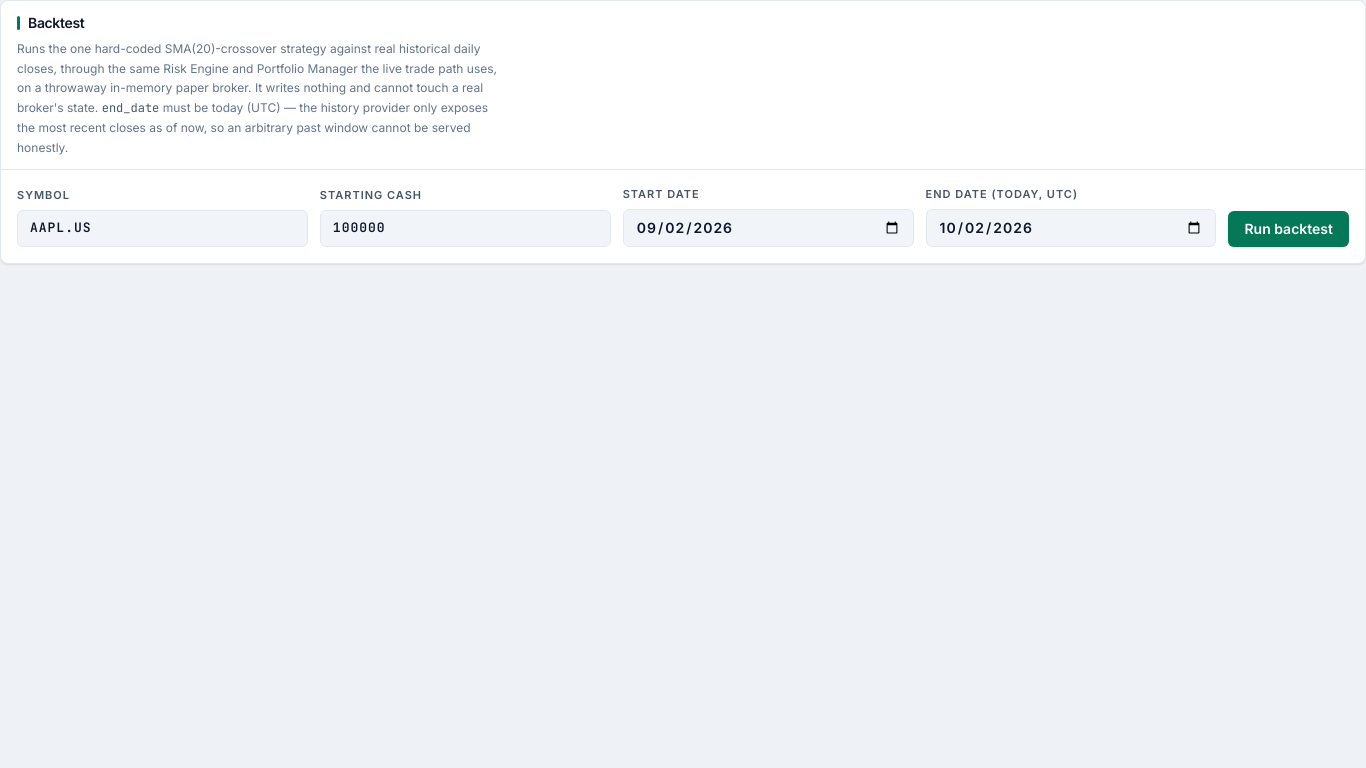
Scenario: BacktestPanel › says win rate is not applicable rather than showing 0% for zero round trips
The width and height of the screenshot is (1366, 768).
Click the button "Run backtest" at (1289, 228), box [1228,210,1349,246]
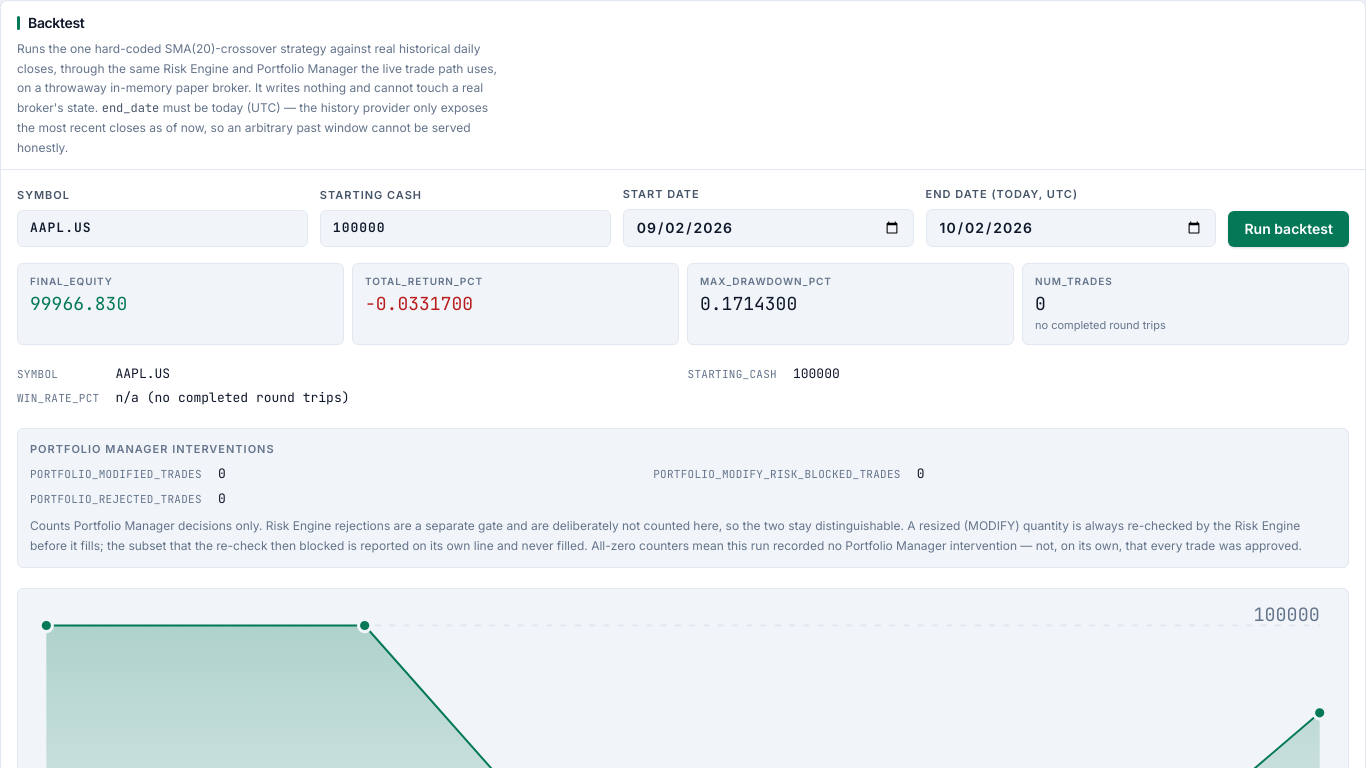
Expected: the text with test id "bt-win-rate" reads "n/a (no completed round trips)", [116,389,350,406]
